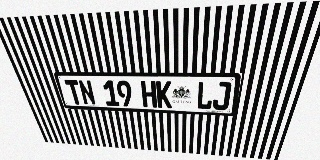1: (101, 80, 120, 106)
9: (116, 80, 133, 107)
H: (140, 81, 157, 108)
J: (212, 82, 232, 110)
K: (156, 81, 172, 108)
L: (196, 81, 214, 110)
N: (77, 80, 97, 105)
T: (64, 80, 84, 105)
